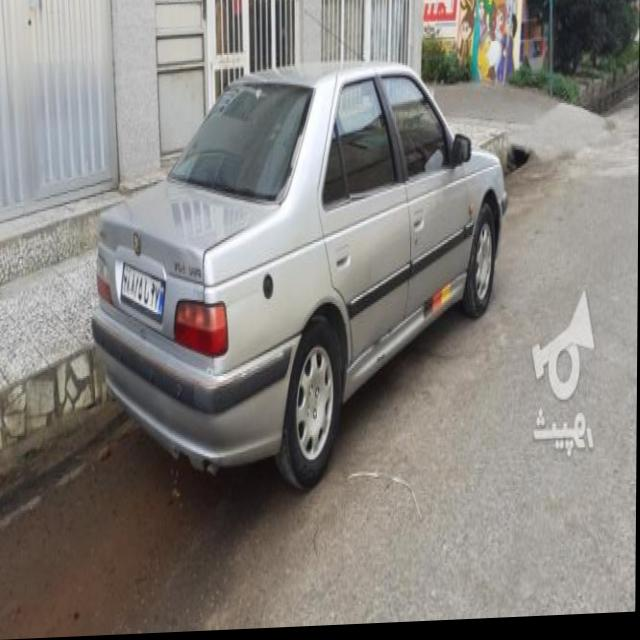licence: (116, 254, 165, 327)
